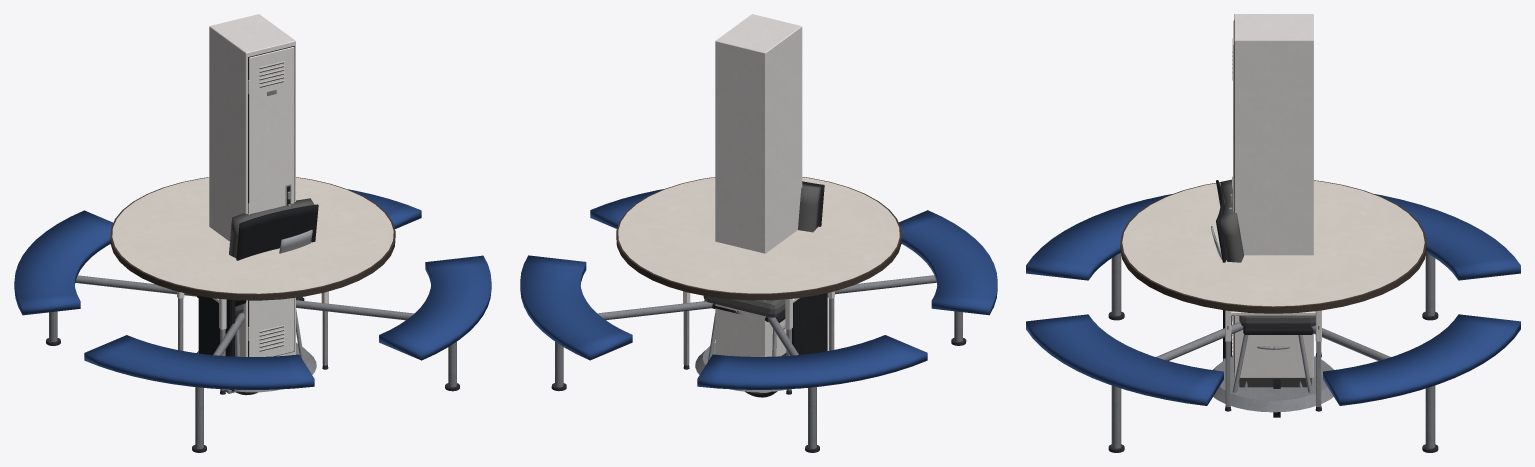
File: props.glb
3 views of the same model, side by side, from view 1: azimuth 30°, elevation 25°; view 2: azimuth 150°, elevation 25°; view 3: azimuth 270°, elevation 25° (orthographic). The views are drawn at different scales.
Visible parts, largest first — view 1: roundTable, locker, seat, desk, chair; view 2: roundTable, locker, seat, desk; view 3: roundTable, locker, seat, desk, chair.
Part boxes in pixels (<box>): roundTable: <box>14,177,491,452</box>; locker: <box>209,14,295,356</box>; seat: <box>197,198,318,393</box>; desk: <box>177,291,328,394</box>; chair: <box>235,229,312,362</box>; roundTable: <box>520,177,997,452</box>; locker: <box>715,14,802,356</box>; seat: <box>703,181,827,354</box>; desk: <box>683,291,834,394</box>; roundTable: <box>1026,180,1520,452</box>; locker: <box>1229,14,1313,387</box>; seat: <box>1216,179,1315,360</box>; desk: <box>1225,310,1321,411</box>; chair: <box>1211,226,1312,392</box>.
Size of the model in its own units: 2.45 by 2.12 by 2.45.
15 materials, 14 textured.
